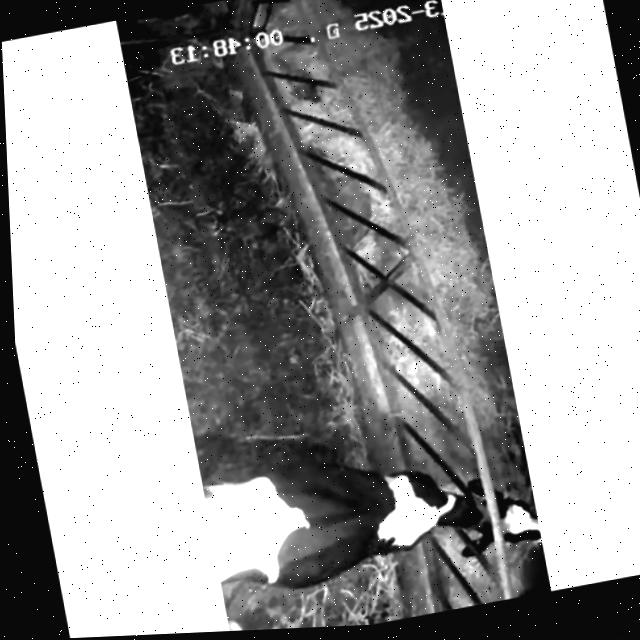eat: (393, 446, 548, 589)
